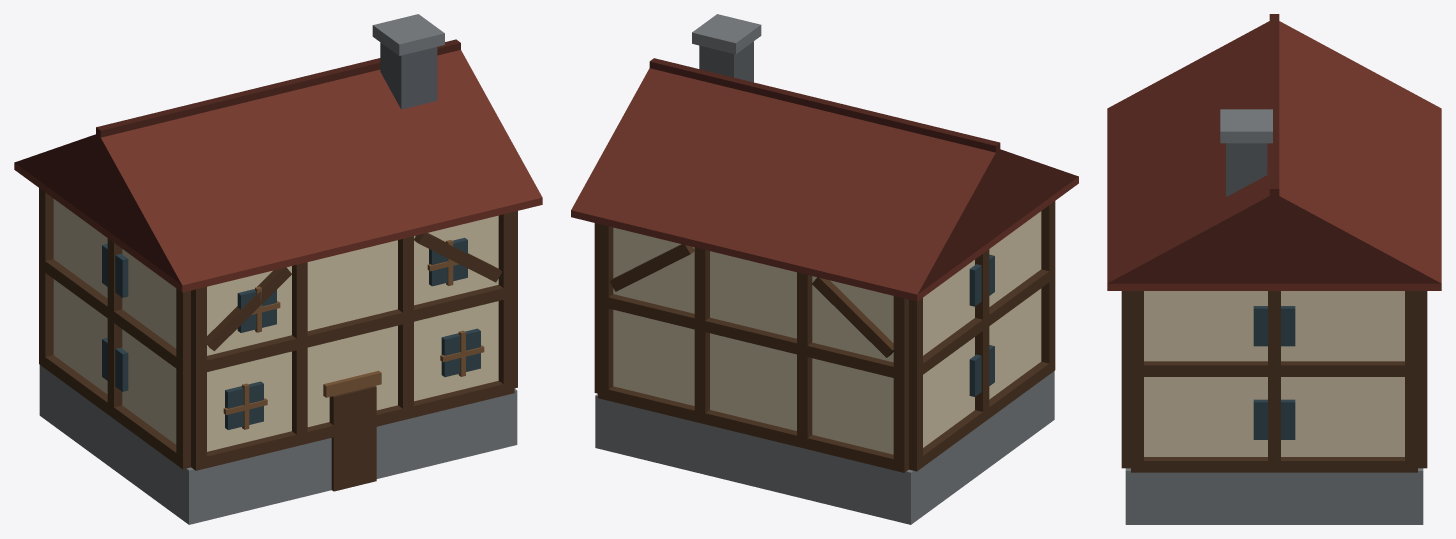
File: casa_enxaimel.glb
3 renders of one model, left to right at view 1: azimuth 30°, elevation 25°; view 2: azimuth 150°, elevation 25°; view 3: azimuth 270°, elevation 25°, orthographic. The views are drawn at different scales.
Visible parts, largest first — view 1: casa_enxaimel; view 2: casa_enxaimel; view 3: casa_enxaimel.
Boxes of the visible parts, <box> form: casa_enxaimel: <box>14,14,542,524</box>; casa_enxaimel: <box>571,14,1078,524</box>; casa_enxaimel: <box>1107,14,1441,524</box>.
Bounding box in the file's own units: 5.2 × 5.28 × 4.2.
